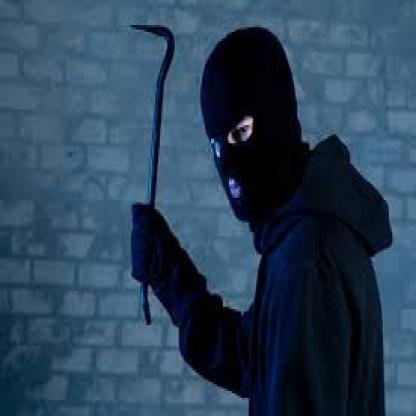criminal: (129, 26, 393, 416)
